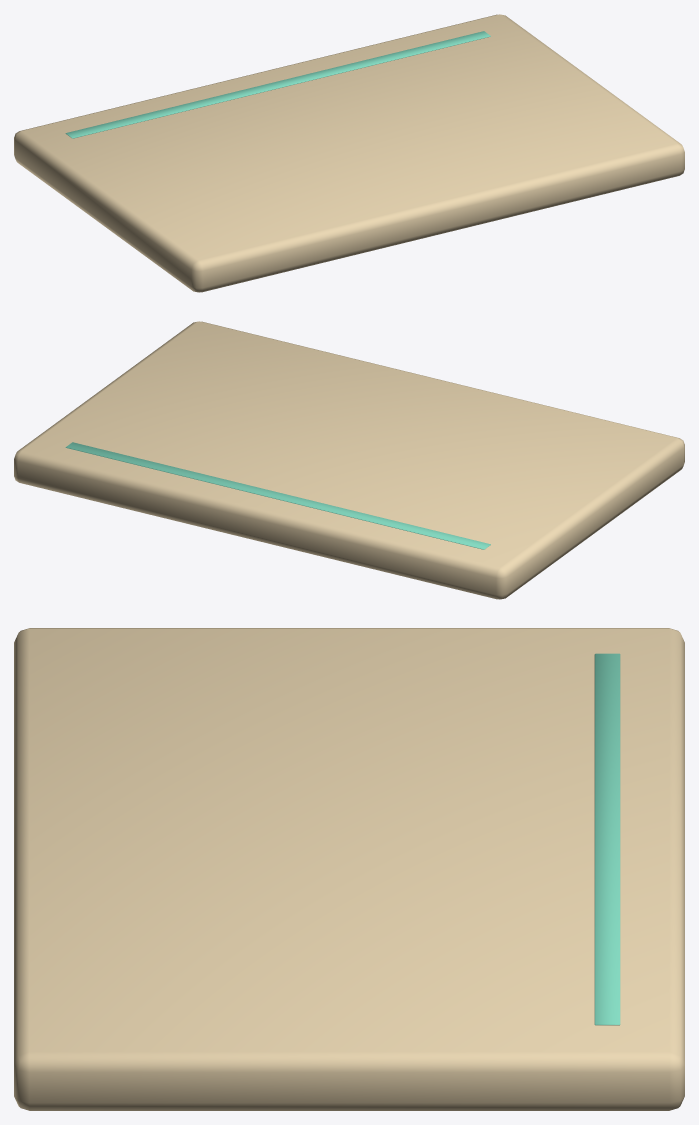
File: zone_kitchen_cutting_board.glb
3 renders of one model, top to bottom at view 1: azimuth 30°, elevation 25°; view 2: azimuth 150°, elevation 25°; view 3: azimuth 270°, elevation 25°, orthographic. The views are drawn at different scales.
Visible parts, largest first — view 1: zone_kitchen_cutting_board; view 2: zone_kitchen_cutting_board; view 3: zone_kitchen_cutting_board.
Part boxes in pixels (box(x1,y1,x2,y2)): zone_kitchen_cutting_board: box(14, 14, 684, 292); zone_kitchen_cutting_board: box(14, 321, 684, 599); zone_kitchen_cutting_board: box(14, 628, 684, 1110).
Size of the model in its own units: 4 by 0.256 by 2.6.
